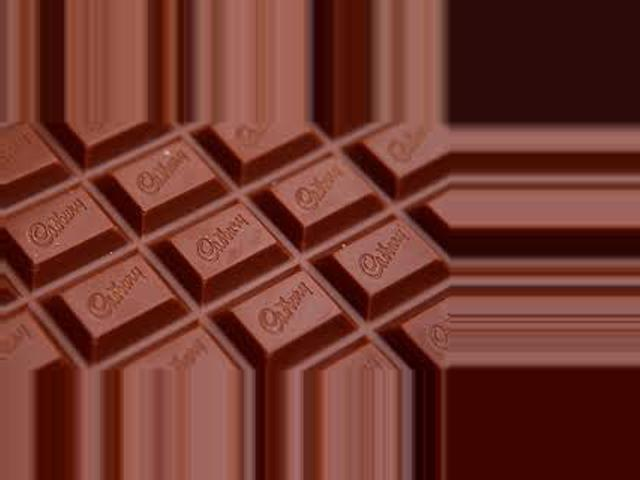chocolate: (5, 129, 436, 372)
